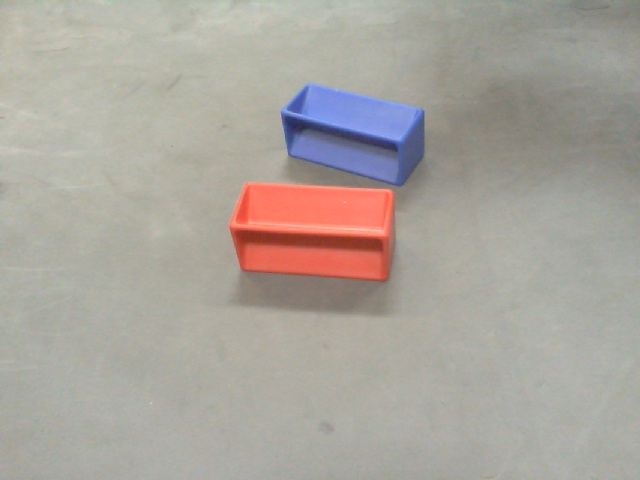BlueSample: (279, 82, 425, 186)
RedSample: (227, 178, 398, 284)
